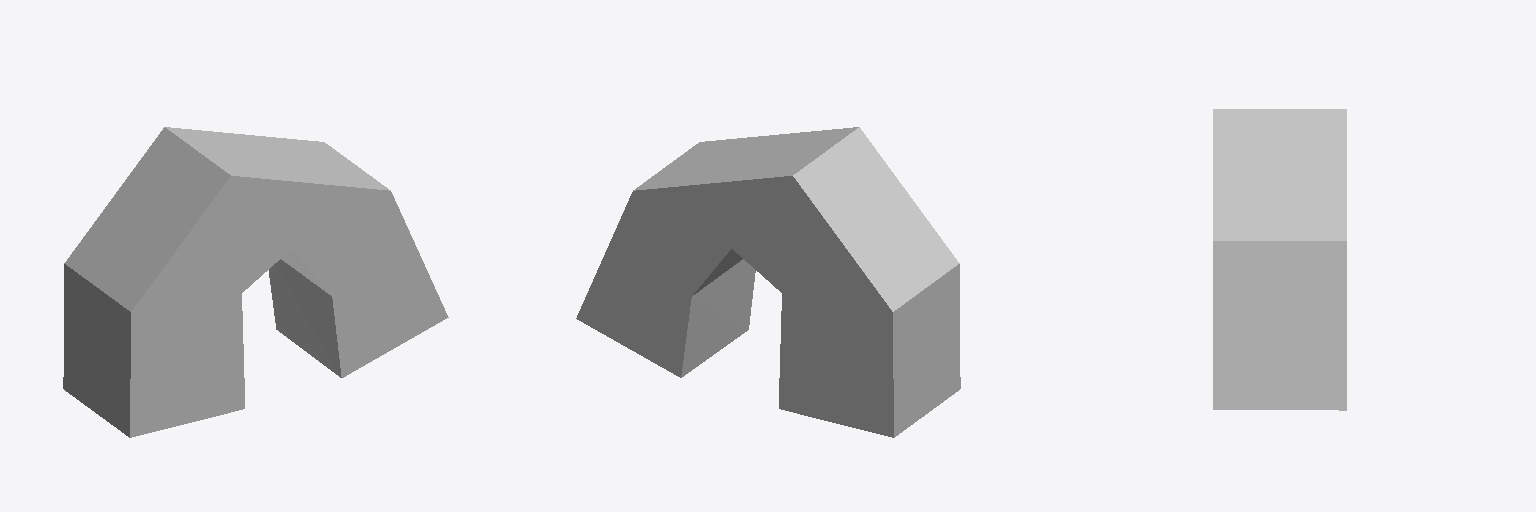
Rendered from Animation_000019.obj.
3 views of the same model, side by side, from view 1: azimuth 30°, elevation 25°; view 2: azimuth 150°, elevation 25°; view 3: azimuth 270°, elevation 25° (orthographic).
Visible parts, largest first — view 1: Cube; view 2: Cube; view 3: Cube.
Part boxes in pixels (bbox=[...]): Cube: bbox=[63, 127, 448, 437]; Cube: bbox=[576, 127, 960, 437]; Cube: bbox=[1213, 109, 1346, 410].
Bounding box in the file's own units: 3.67 × 2.62 × 1.33.